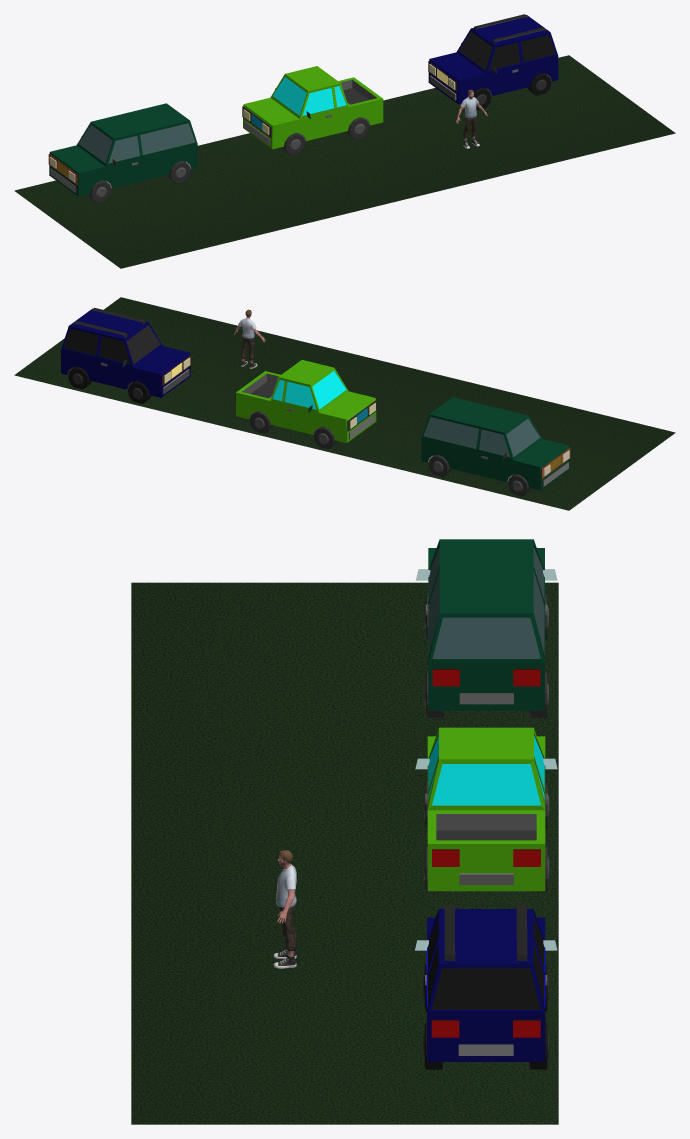
The model's file is campsite-v3.glb.
3 renders of one model, top to bottom at view 1: azimuth 30°, elevation 25°; view 2: azimuth 150°, elevation 25°; view 3: azimuth 270°, elevation 25°, orthographic. The views are drawn at different scales.
Parts seen in each view (by area): view 1: Grass, Grass.001, Grass.002, Van.001, SUV.001, Pickup.001; view 2: Grass.002, Grass, Grass.001, Van.001, SUV.001, Pickup.001; view 3: Grass.002, Grass.001, Grass, Van.001, Pickup.001, SUV.001.
Part boxes in pixels (<box>): Grass: <box>199,100,490,223</box>; Grass.001: <box>14,145,305,268</box>; Grass.002: <box>384,55,675,178</box>; Van.001: <box>48,103,197,202</box>; SUV.001: <box>428,14,558,110</box>; Pickup.001: <box>242,66,383,155</box>; Grass.002: <box>14,297,305,420</box>; Grass: <box>199,342,490,465</box>; Grass.001: <box>384,387,675,510</box>; Van.001: <box>421,397,570,496</box>; SUV.001: <box>61,307,191,403</box>; Pickup.001: <box>235,360,376,448</box>; Grass.002: <box>131,944,558,1124</box>; Grass.001: <box>131,582,558,763</box>; Grass: <box>131,763,558,943</box>; Van.001: <box>416,539,557,717</box>; Pickup.001: <box>415,727,557,892</box>; SUV.001: <box>414,905,557,1069</box>.
Size of the model in its own units: 18.29 by 1.92 by 6.1.
10 materials, 10 textured.
